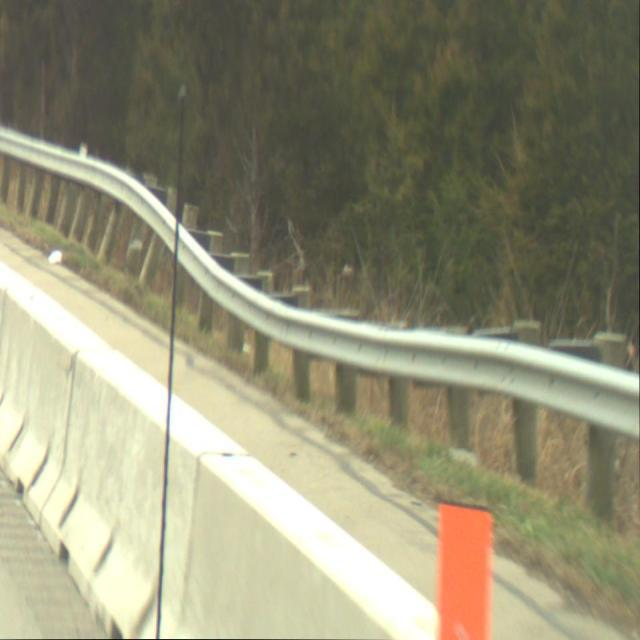Guard rail: (0, 116, 640, 537)
